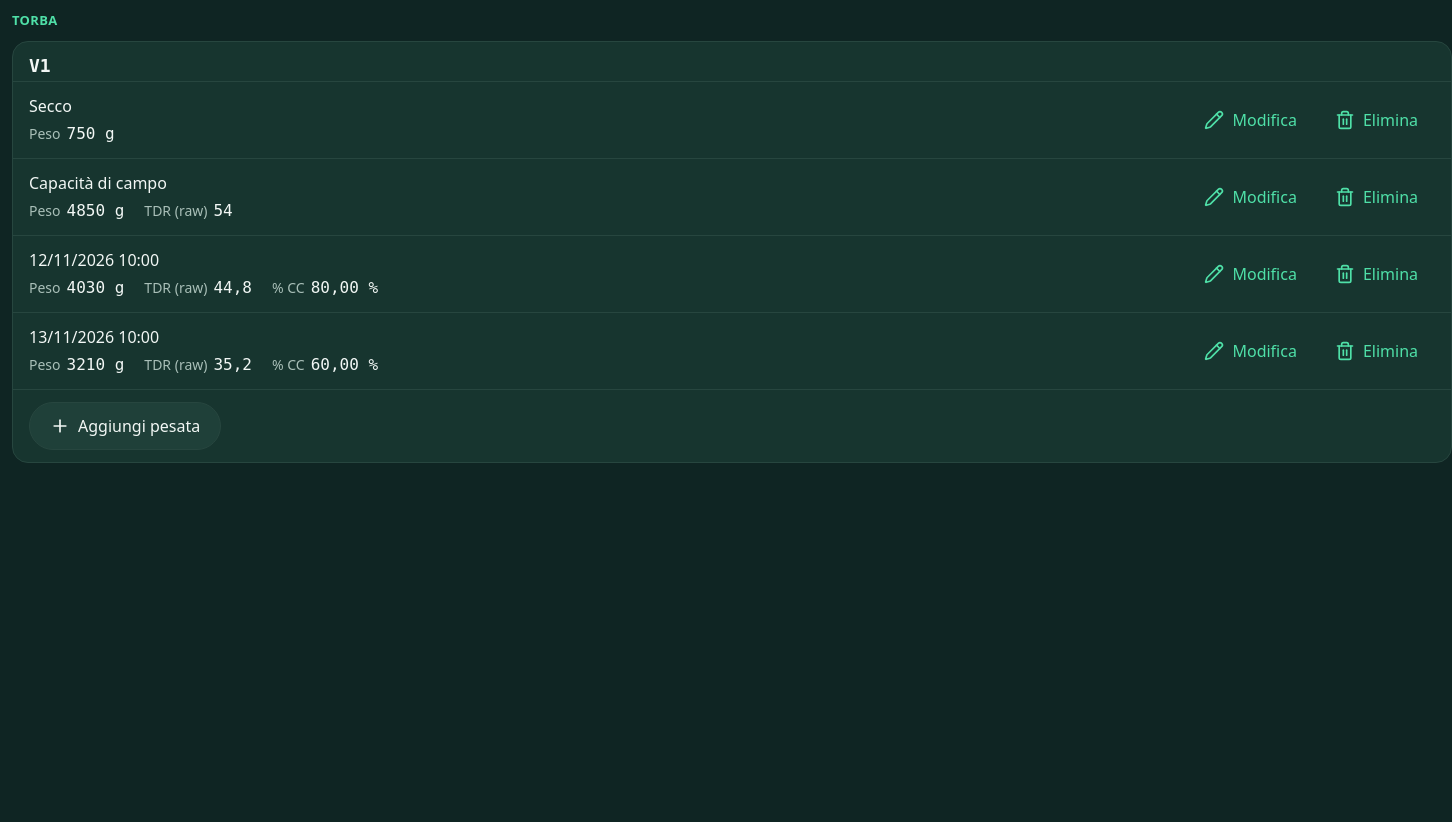
Scenario: RiepilogoVasi › Modifica della CC: campi compilati, la nuova lettura si salva con lo stesso id e la stessa data
Click the button with aria-label "Modifica Capacità di campo, V1". click: (1251, 197)
box: [1187,175,1314,219]
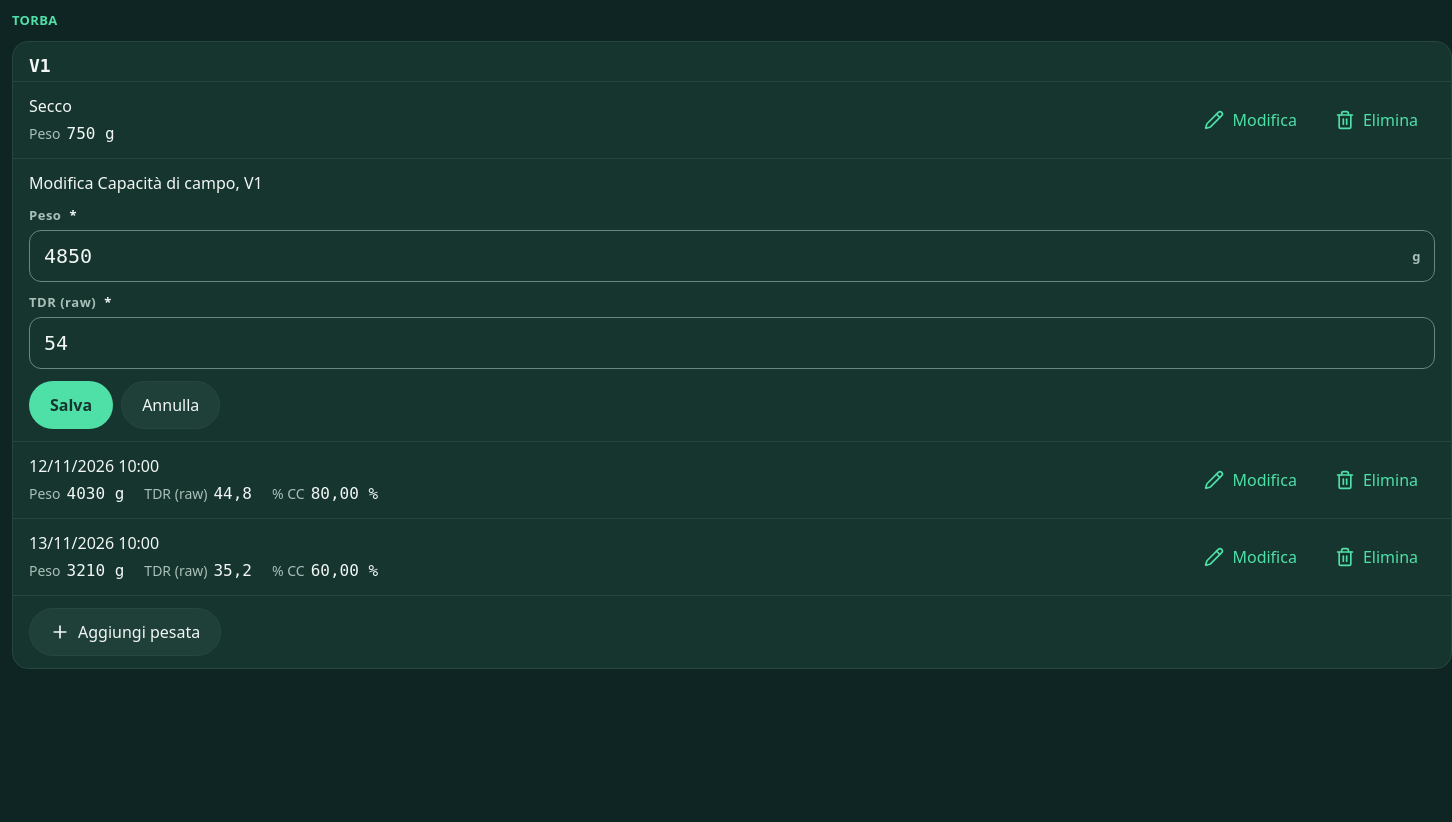
Now the field labelled "Peso *" holds "4850", box [29,230,1435,282]
Now the field labelled "TDR (raw) *" holds "54"
Replace the text in the field labelled "TDR (raw) *" with "55". click: (732, 343)
box: [29,317,1435,369]
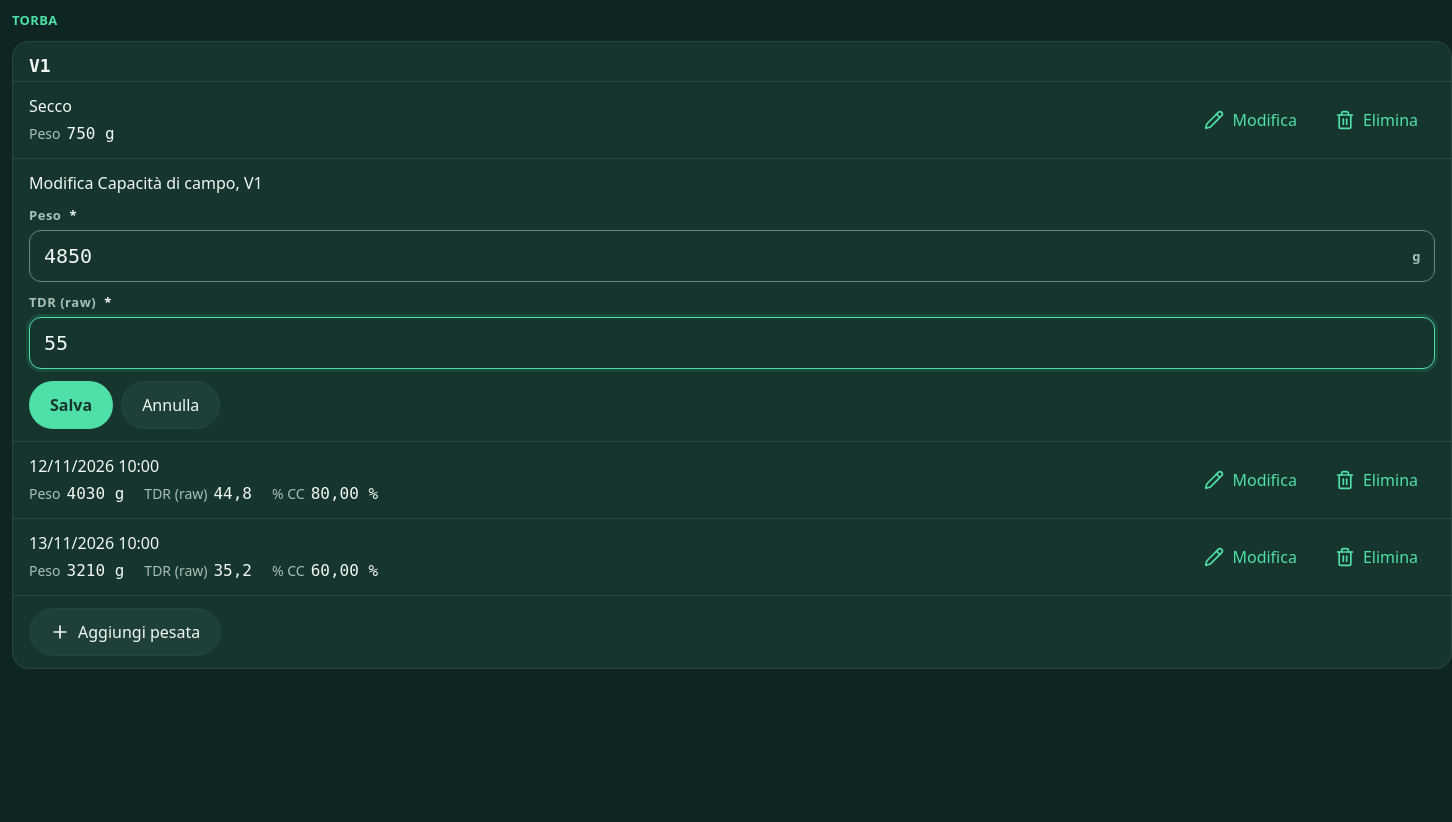
Click the button "Salva". click: (71, 405)
box: [29,381,113,429]
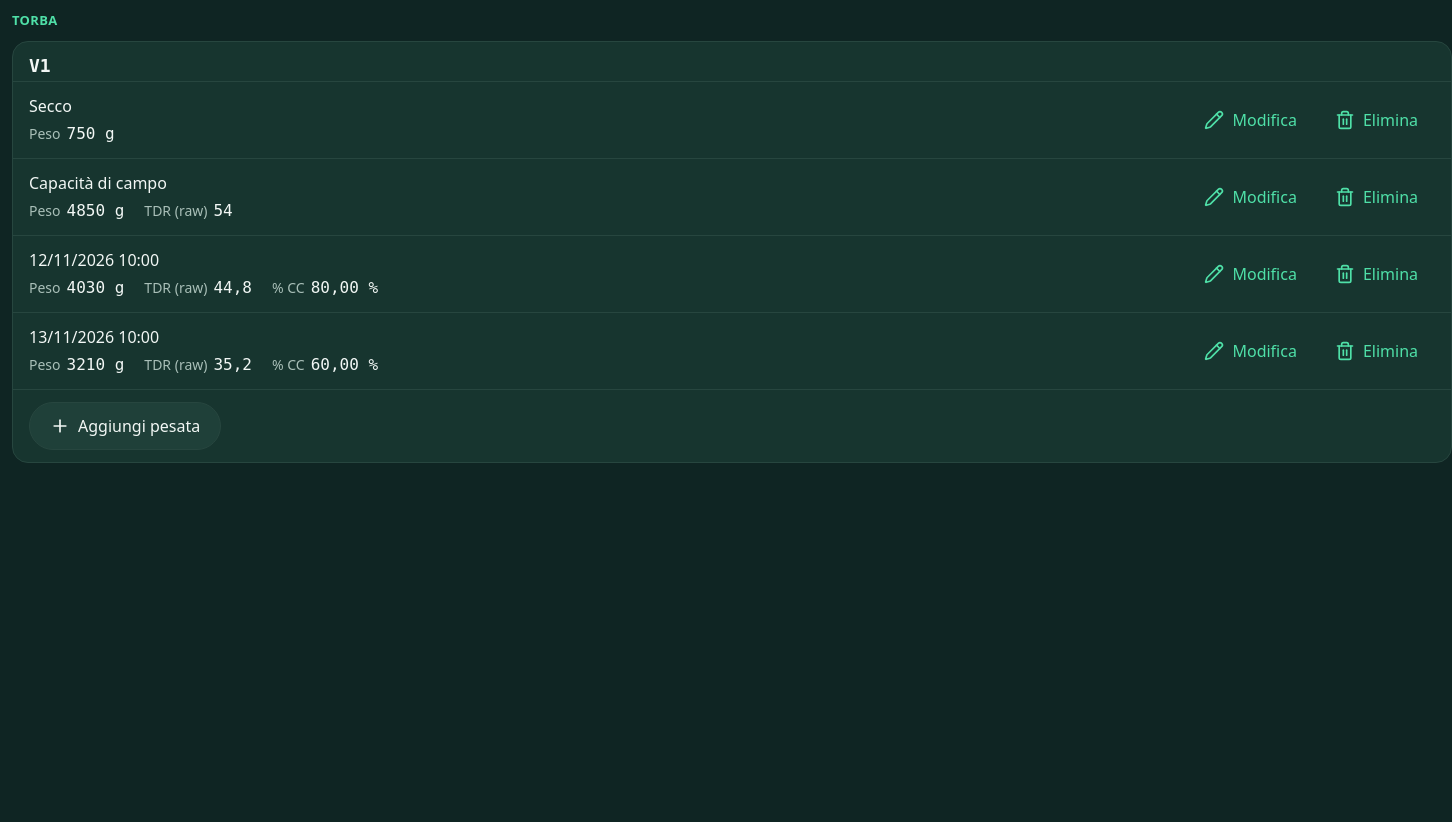
Now the form is gone
